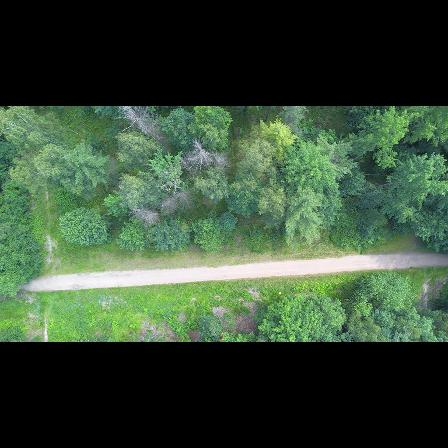Dead: (120, 106, 164, 154), (189, 140, 219, 171), (159, 185, 193, 211), (136, 207, 164, 226)
